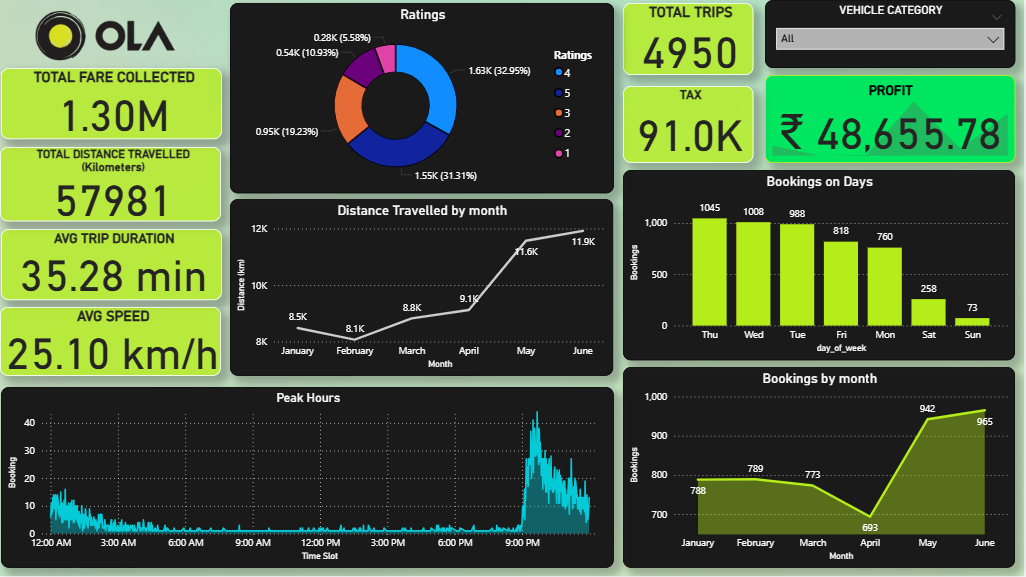

Layout of this report page (visuals, bound fields, positions):
{"tool":"powerbi","page":{"name":"Page 1","canvas":[1280,720],"ordinal":0},"visuals":[{"type":"card","title":"TOTAL FARE COLLECTED","fields":{"Values":["Sum(Data.total_trip_cost)"]},"box":[1.2,85,276.2,88.8],"z":0},{"type":"card","title":"TOTAL TRIPS","fields":{"Values":["CountNonNull(Data.booking id)"]},"box":[778.8,3.8,162.5,90],"z":1000},{"type":"card","title":"TOTAL DISTANCE TRAVELLED (Kilometers)","fields":{"Values":["Sum(Data.distance_travelled)"]},"box":[0,183.8,276.2,92.5],"z":2000},{"type":"card","title":"AVG TRIP DURATION","fields":{"Values":["Data.Avg Minutes Display"]},"box":[1.2,286.2,276.2,88.8],"z":3000},{"type":"card","title":"AVG SPEED","fields":{"Values":["Data.Avg Speed Display"]},"box":[0,383.8,276.2,86.2],"z":4000},{"type":"areaChart","title":"Bookings by month","fields":{"Category":["Data.Date.Variation.Date Hierarchy.Month","Data.Date.Variation.Date Hierarchy.Day"],"Y":["CountNonNull(Data.booking id)"]},"box":[778.8,458.8,490,251.2],"z":5000},{"type":"lineChart","title":"Distance Travelled by month","fields":{"Category":["Data.Date.Variation.Date Hierarchy.Month","Data.Date.Variation.Date Hierarchy.Day"],"Y":["Sum(Data.distance_travelled)"]},"box":[287.5,248.8,478.8,221.2],"z":6000},{"type":"columnChart","title":"Bookings on Days","fields":{"Category":["Data.day_of_week"],"Y":["CountNonNull(Data.booking id)"]},"box":[778.8,212.5,490,237.5],"z":7000},{"type":"slicer","title":"VEHICLE CATEGORY","fields":{"Values":["Data.category"]},"box":[956.2,0,312.5,85],"z":8000},{"type":"kpi","fields":{"Indicator":["Sum(Data.commission_base_cost)"],"TrendLine":["Data.month"]},"box":[956.2,93.8,312.5,110],"z":9000},{"type":"donutChart","title":"Ratings","fields":{"Y":["CountNonNull(Data.booking id)"],"Category":["Data.ratings"]},"box":[287.5,3.8,480,237.5],"z":10000},{"type":"lineChart","title":"Peak Hours","fields":{"Category":["Data.time_of_day"],"Y":["CountNonNull(Data.booking id)"]},"box":[1.2,483.8,766.2,226.2],"z":11000},{"type":"card","title":"TAX","fields":{"Values":["Sum(Data.total_tax)"]},"box":[778.8,107.5,162.5,96.2],"z":12000},{"type":"image","box":[0,0,263.8,85],"z":12001}]}

Visuals, with their boxes in screenshot pixels (x1, y1, x2, y2), scaled from the page's 1280x720 canvas onto the 1026x577 screenshot:
"TOTAL FARE COLLECTED" card: (1,68,222,139)
"TOTAL TRIPS" card: (624,3,755,75)
"TOTAL DISTANCE TRAVELLED (Kilometers)" card: (0,147,221,221)
"AVG TRIP DURATION" card: (1,229,222,301)
"AVG SPEED" card: (0,308,221,377)
"Bookings by month" areaChart: (624,368,1017,569)
"Distance Travelled by month" lineChart: (230,199,614,377)
"Bookings on Days" columnChart: (624,170,1017,361)
"VEHICLE CATEGORY" slicer: (766,0,1017,68)
kpi - Sum(Data.commission_base_cost) x Data.month: (766,75,1017,163)
"Ratings" donutChart: (230,3,615,193)
"Peak Hours" lineChart: (1,388,615,569)
"TAX" card: (624,86,755,163)
image: (0,0,211,68)
